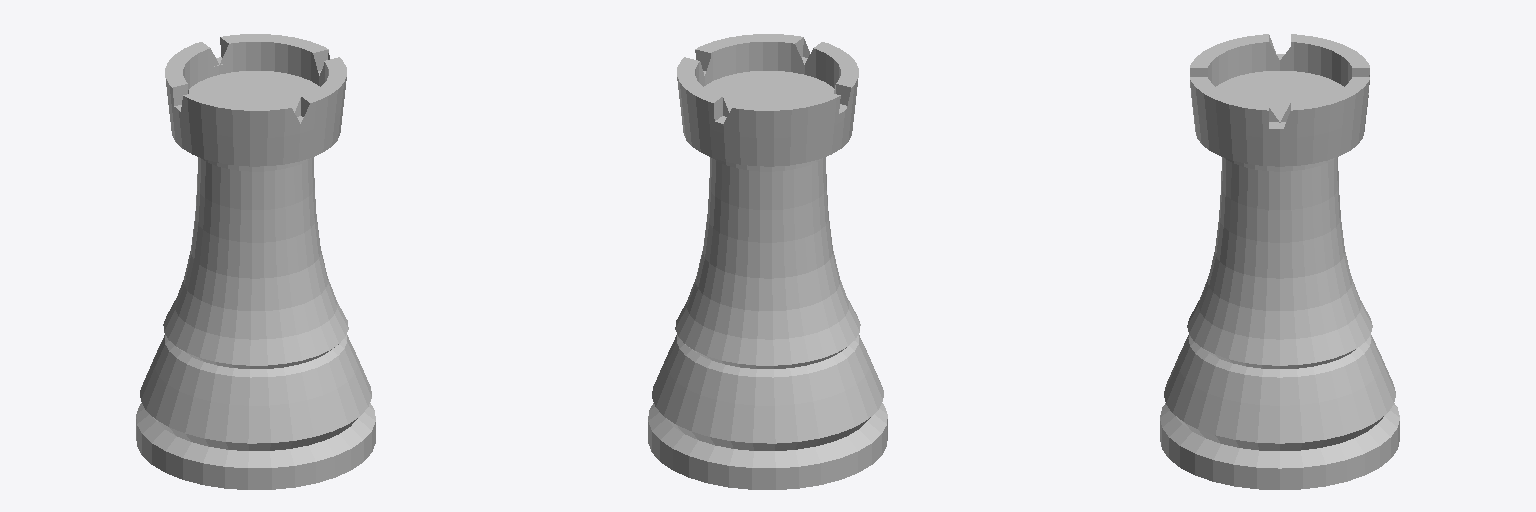
Rendered from rook.obj.
3 views of the same model, side by side, from view 1: azimuth 30°, elevation 25°; view 2: azimuth 150°, elevation 25°; view 3: azimuth 270°, elevation 25° (orthographic).
Parts seen in each view (by area): view 1: Cylinder_Cylinder.001; view 2: Cylinder_Cylinder.001; view 3: Cylinder_Cylinder.001.
Part boxes in pixels (left/top/right/bottom): Cylinder_Cylinder.001: left=136, top=34, right=375, bottom=489; Cylinder_Cylinder.001: left=648, top=34, right=887, bottom=489; Cylinder_Cylinder.001: left=1160, top=34, right=1399, bottom=489.
Size of the model in its own units: 2.25 by 3.79 by 2.25.